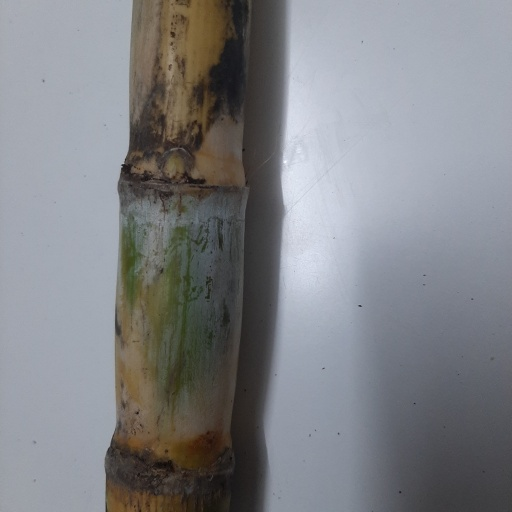Bud: (161, 149, 193, 181)
